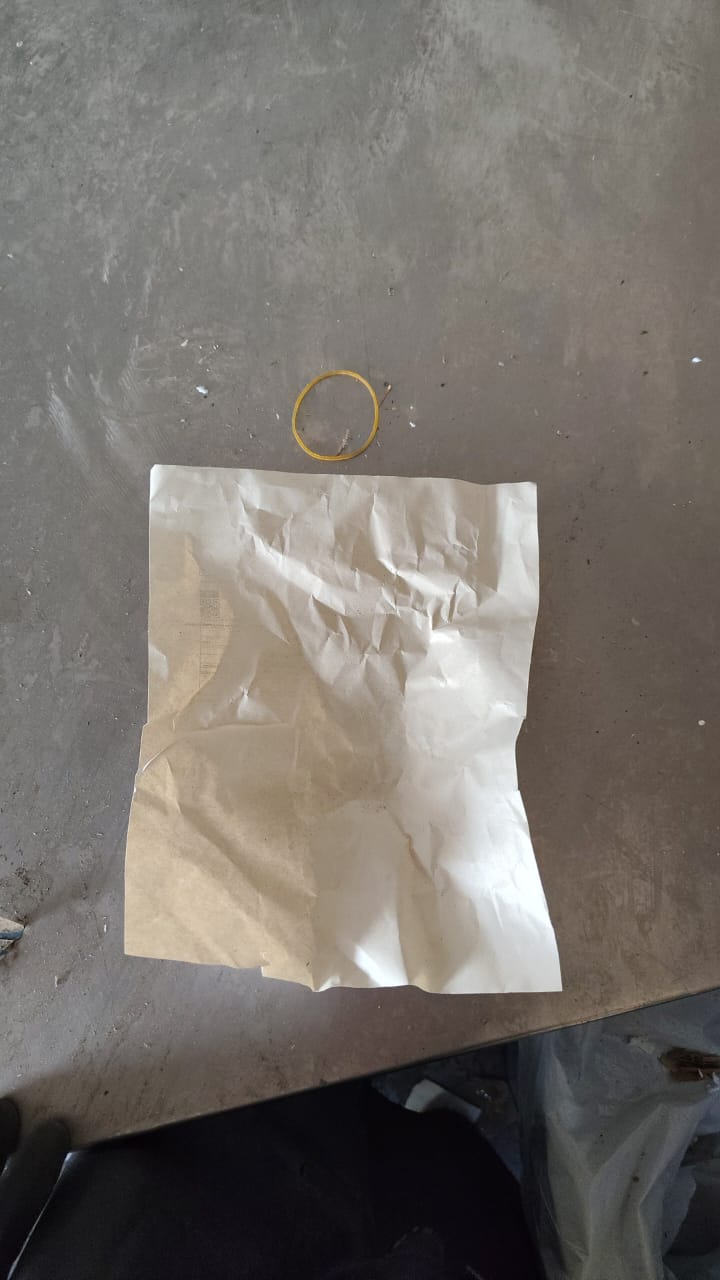Papel: (125, 466, 562, 998)
